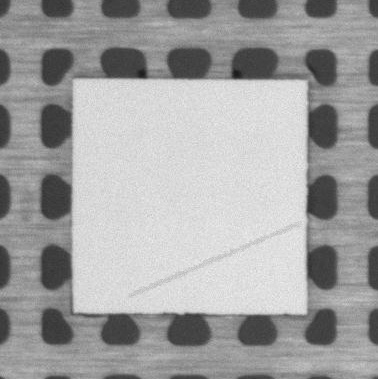DIE_CRACK: (131, 225, 298, 296)
